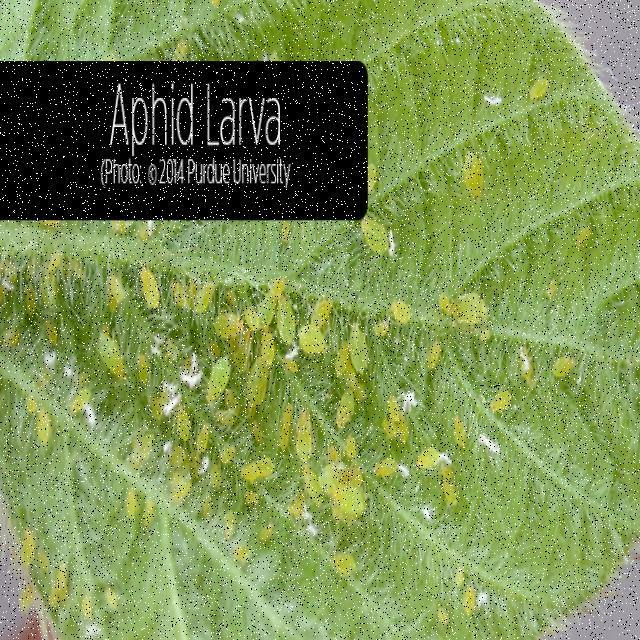Aphids: (92, 323, 130, 394), (330, 483, 375, 538), (450, 285, 493, 340), (199, 349, 238, 407), (342, 316, 376, 381), (290, 398, 319, 466), (235, 449, 281, 491), (356, 211, 394, 261), (272, 291, 302, 349), (412, 431, 445, 483), (384, 387, 411, 448), (293, 325, 329, 367), (487, 379, 518, 427), (370, 445, 404, 488), (333, 387, 360, 437), (387, 295, 415, 327)
